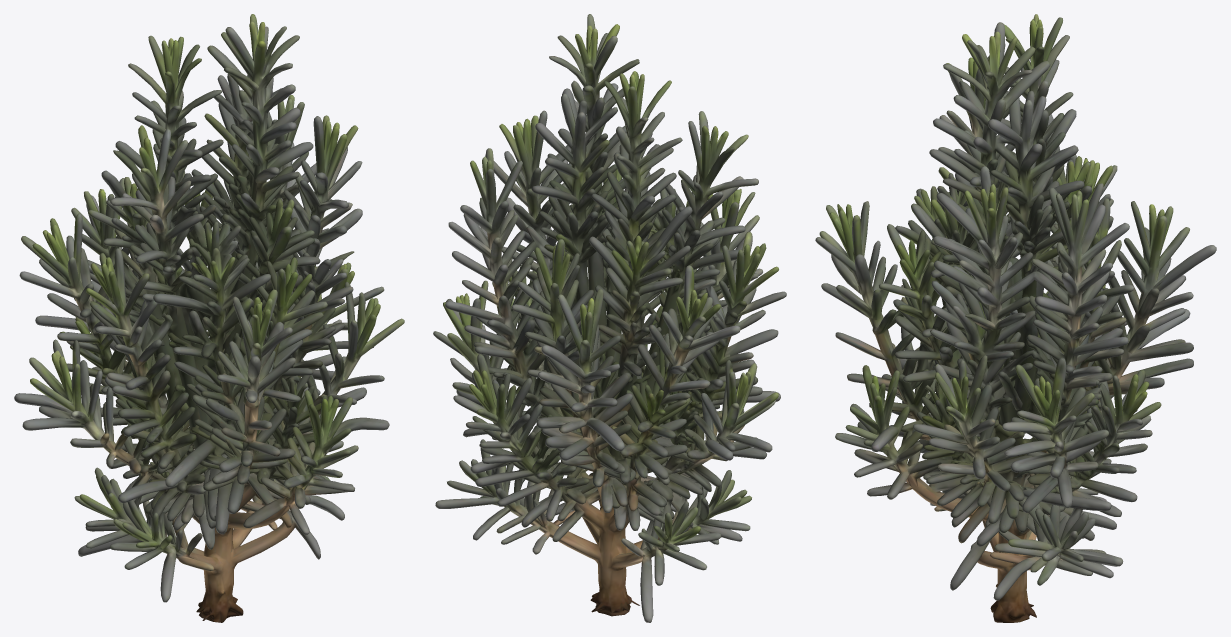
The model's file is midiexiang.glb.
3 renders of one model, left to right at view 1: azimuth 30°, elevation 25°; view 2: azimuth 150°, elevation 25°; view 3: azimuth 270°, elevation 25°, orthographic. The views are drawn at different scales.
Visible parts, largest first — view 1: node_0; view 2: node_0; view 3: node_0.
Part boxes in pixels (x1,y1,x2,y2): node_0: [14, 14, 404, 622]; node_0: [433, 14, 786, 622]; node_0: [815, 14, 1216, 622].
Bounding box in the file's own units: 0.7225 × 1.17 × 0.7112.
Materials: 1 (1 with a texture image).
